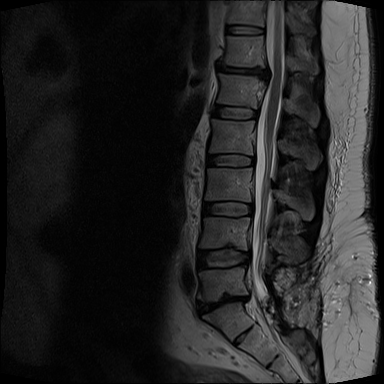Degenerative Disc Disease (DDD): (193, 287, 254, 319)
Normal IVD: (190, 242, 251, 275), (199, 194, 255, 220), (203, 149, 258, 172), (208, 102, 259, 123), (222, 20, 267, 39)
Spinal Stenosis (SS): (237, 57, 283, 92)
Spondylolisthesis: (186, 285, 261, 329)
Thoracic Disc Bulge (TDB): (209, 55, 273, 86)
